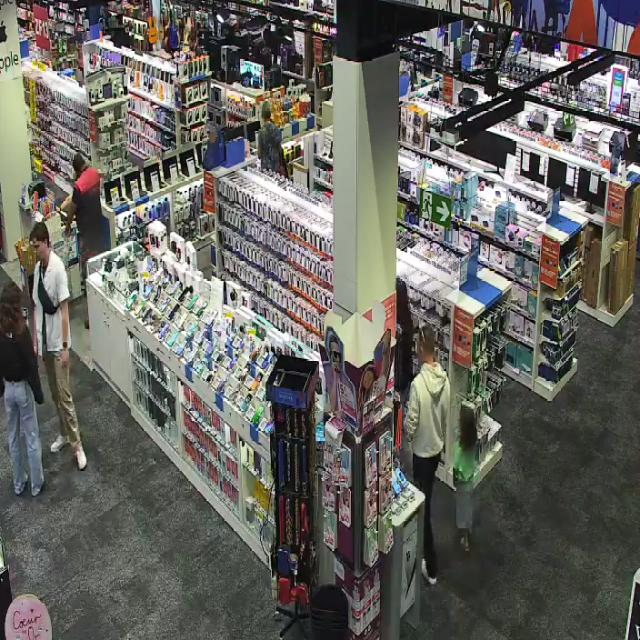bags: (38, 269, 57, 314)
hands: (61, 350, 69, 369)
person: (30, 222, 86, 469), (405, 326, 449, 583), (0, 282, 44, 496), (62, 153, 108, 279), (454, 407, 476, 550)
